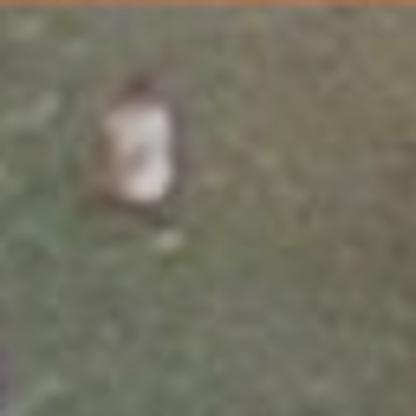ship: (76, 68, 216, 259)
